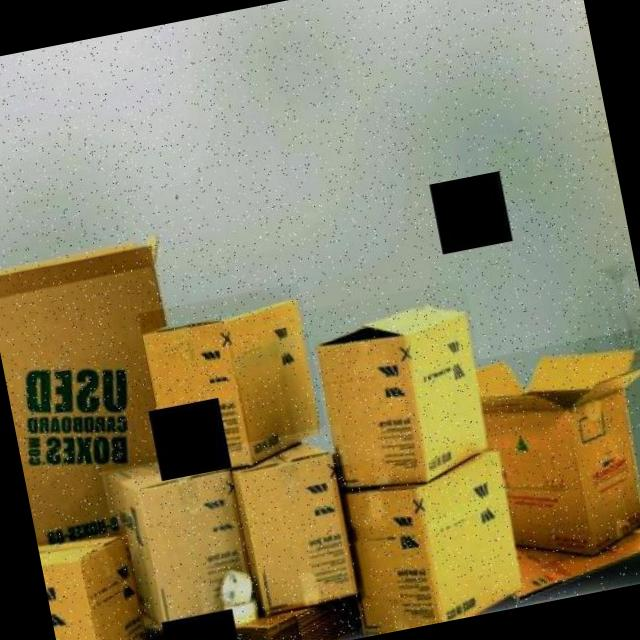box: (0, 224, 214, 547), (474, 327, 640, 605), (306, 280, 502, 502), (329, 434, 532, 638), (137, 282, 330, 480), (222, 425, 376, 627), (101, 447, 262, 640), (38, 524, 155, 640), (140, 591, 369, 640)
